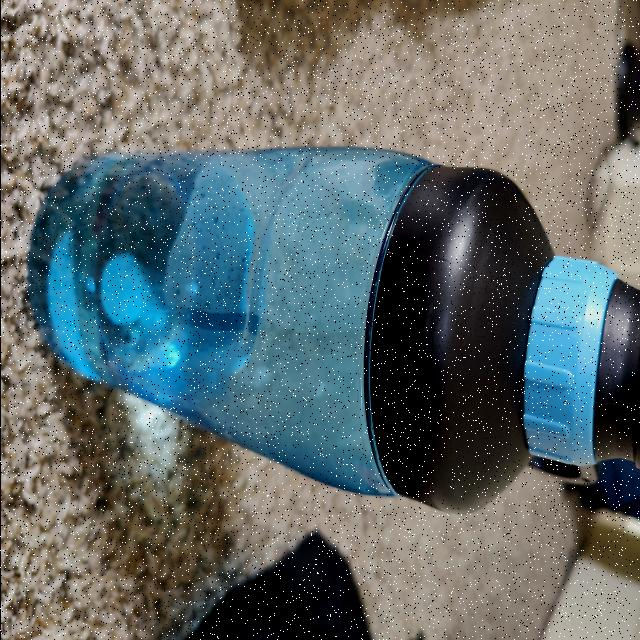bottle: (46, 158, 640, 507)
